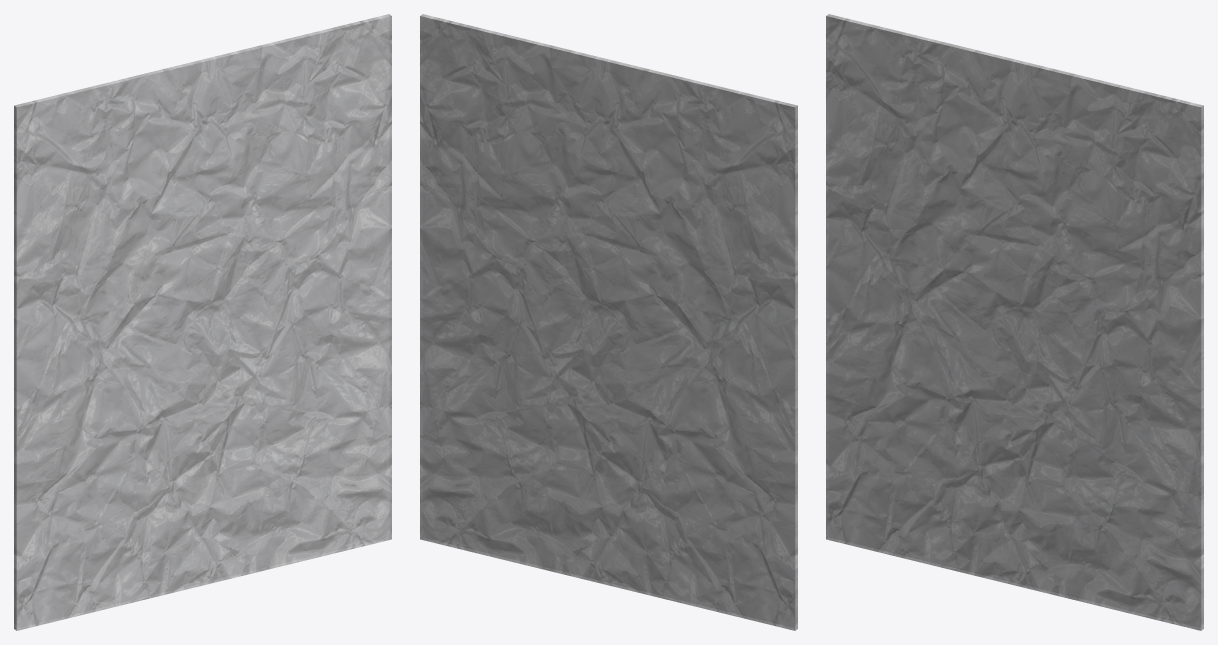
The model's file is bag_surface.obj.
The picture shows the model from 3 angles, left to right: view 1: azimuth 30°, elevation 25°; view 2: azimuth 150°, elevation 25°; view 3: azimuth 330°, elevation 25°; orthographic projection.
Size of the model in its own units: 0.18 by 0.24 by 0.00225.
Materials: 1 (1 with a texture image).
